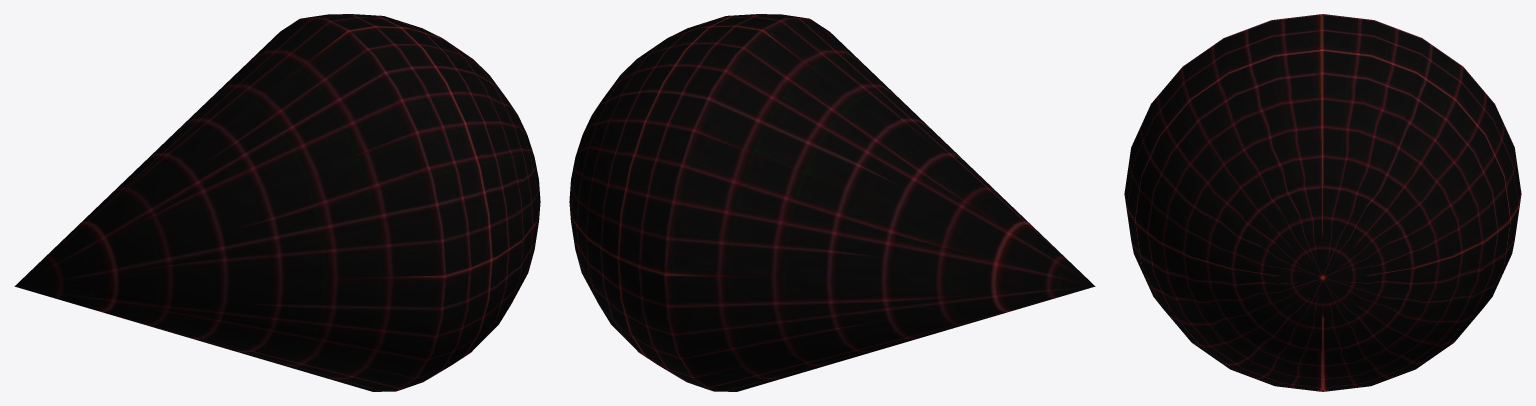
3 views of the same model, side by side, from view 1: azimuth 30°, elevation 25°; view 2: azimuth 150°, elevation 25°; view 3: azimuth 270°, elevation 25° (orthographic). The views are drawn at different scales.
Visible parts, largest first — view 1: SM_Placeholder_Cone_Round_LOD0; view 2: SM_Placeholder_Cone_Round_LOD0; view 3: SM_Placeholder_Cone_Round_LOD0.
Boxes of the visible parts, box(x1,y1,x2,y2) form: SM_Placeholder_Cone_Round_LOD0: box(14, 14, 540, 391); SM_Placeholder_Cone_Round_LOD0: box(569, 14, 1095, 391); SM_Placeholder_Cone_Round_LOD0: box(1124, 14, 1521, 391).
Bounding box in the file's own units: 1.5 × 1 × 1.
Materials: 1 (1 with a texture image).
